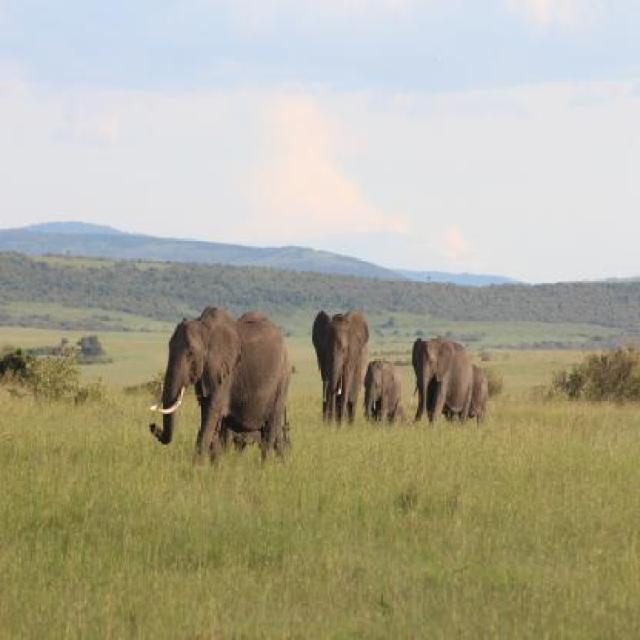Elephant: (145, 302, 297, 476), (310, 301, 375, 430), (407, 331, 476, 429), (364, 353, 402, 429)
